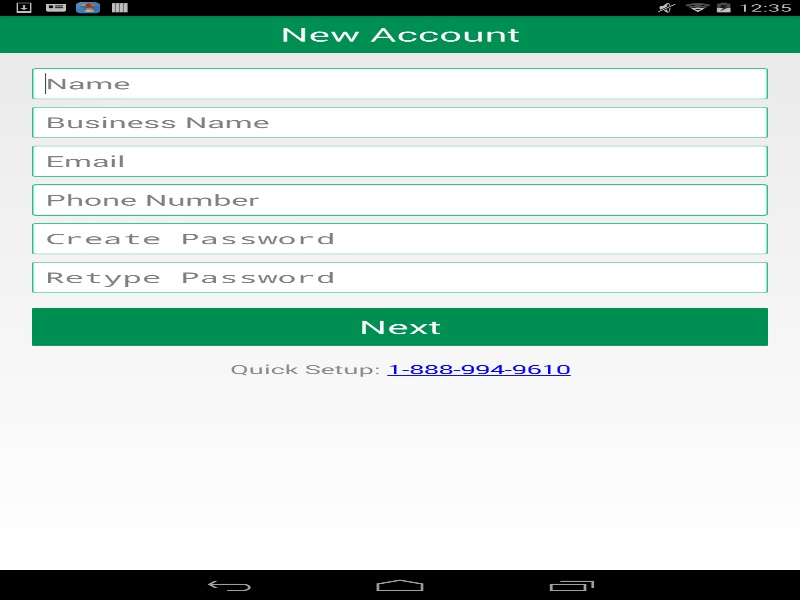Input: (32, 106, 768, 138), (32, 261, 768, 293), (32, 68, 768, 99), (32, 145, 768, 176), (32, 184, 768, 215), (32, 223, 768, 254)
